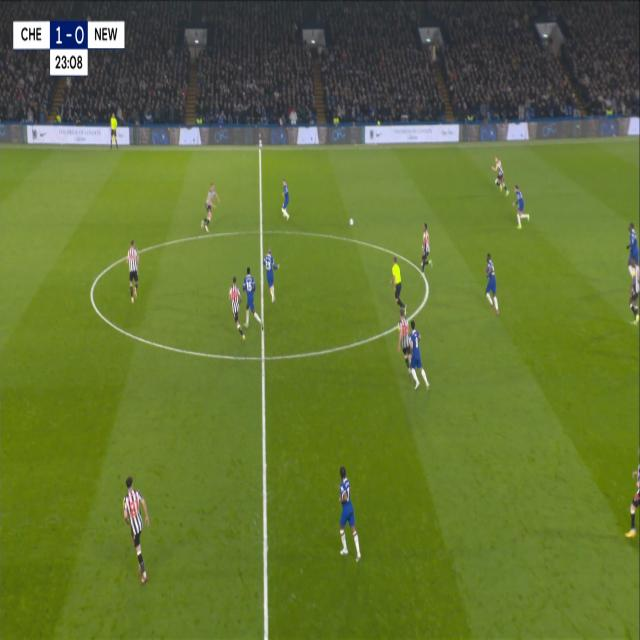Ball: (348, 213, 355, 229)
Chelsea: (334, 460, 363, 564), (404, 315, 432, 394), (240, 263, 265, 336), (482, 249, 501, 318), (261, 242, 281, 305), (513, 180, 531, 233), (279, 173, 292, 225)
New castle: (120, 471, 152, 588), (197, 176, 222, 239), (124, 235, 142, 307), (228, 274, 245, 344), (398, 308, 413, 385), (492, 152, 510, 203), (418, 218, 434, 275)
Refree: (390, 255, 407, 308)
